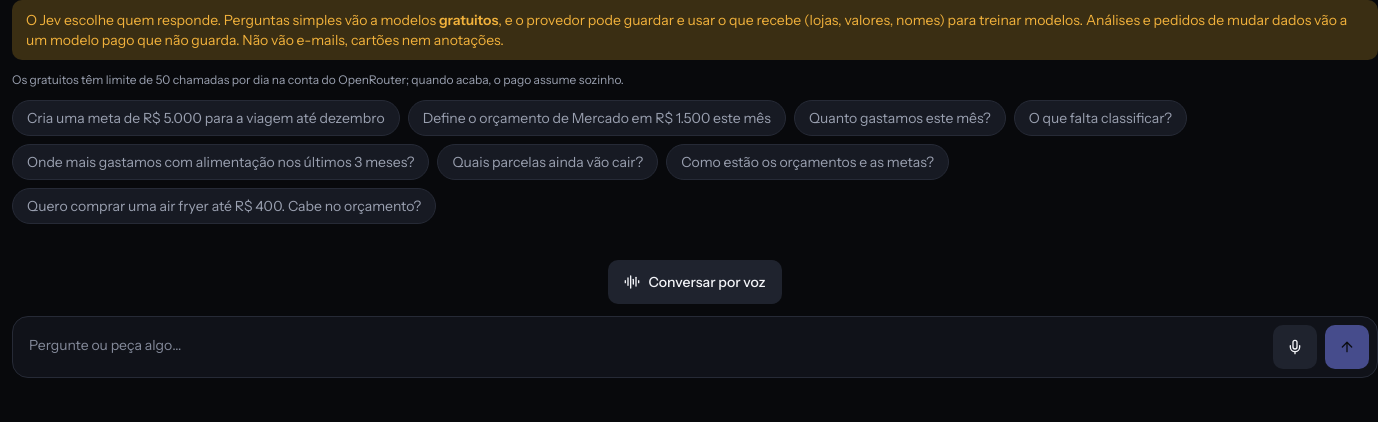
voz › microfone negado vira frase, sem enviar nada
The image size is (1378, 422).
Click the button named "Falar o pedido" at (1295, 347), box [1273,325,1317,369]
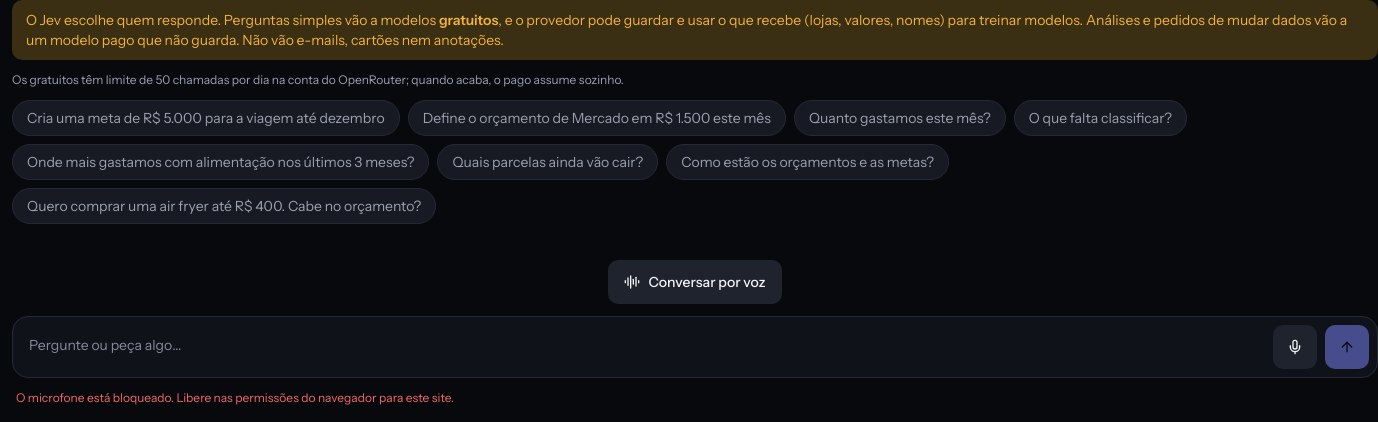
Result: the message shows "microfone está bloqueado" at [16,390,454,405]
